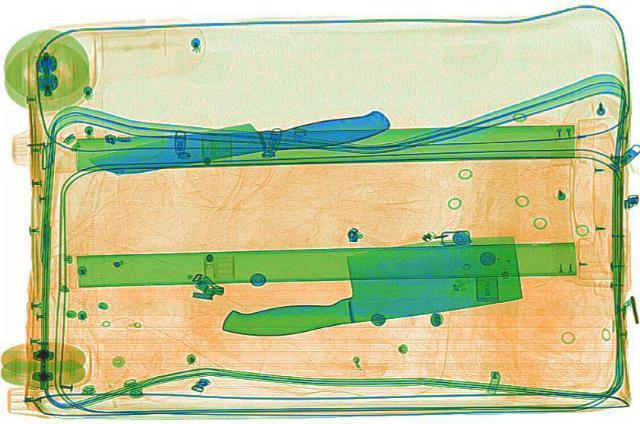Knife: (195, 226, 540, 345), (82, 99, 394, 180)
